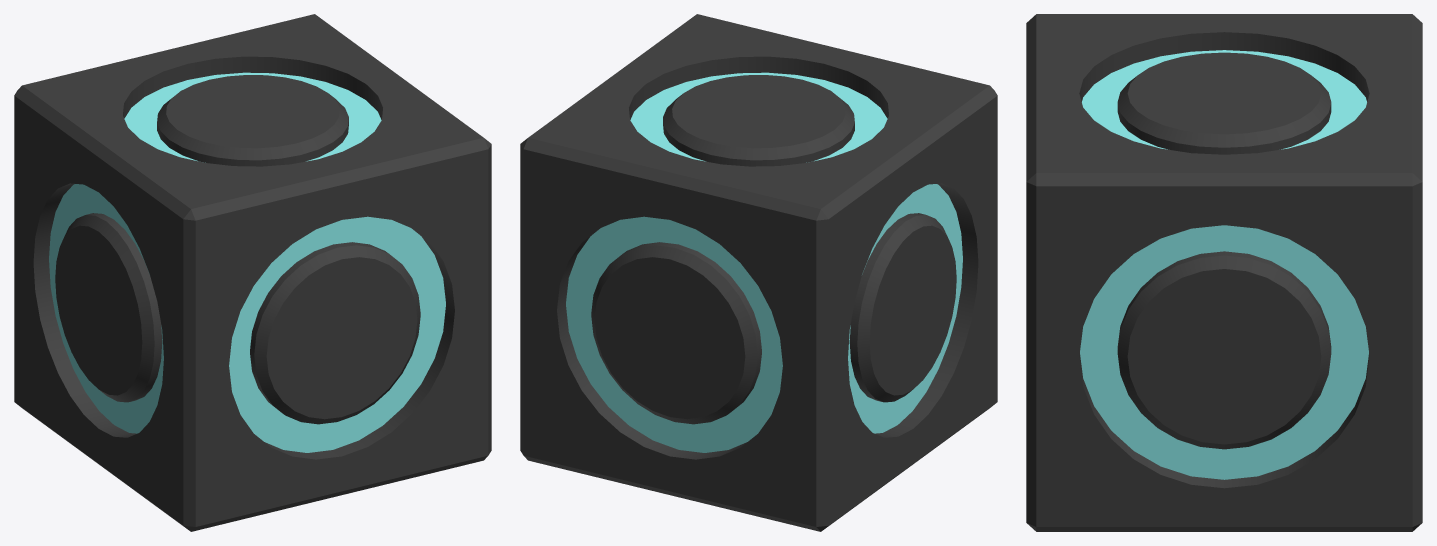
The model's file is newcube_ep.FBX.
3 views of the same model, side by side, from view 1: azimuth 30°, elevation 25°; view 2: azimuth 150°, elevation 25°; view 3: azimuth 270°, elevation 25° (orthographic). The views are drawn at different scales.
Visible parts, largest first — view 1: Box001; view 2: Box001; view 3: Box001.
Part boxes in pixels (left/top/right/bottom): Box001: left=14, top=14, right=491, bottom=531; Box001: left=520, top=14, right=997, bottom=531; Box001: left=1026, top=14, right=1422, bottom=531.
Bounding box in the file's own units: 1 × 1 × 1.
1 material, 1 textured.
